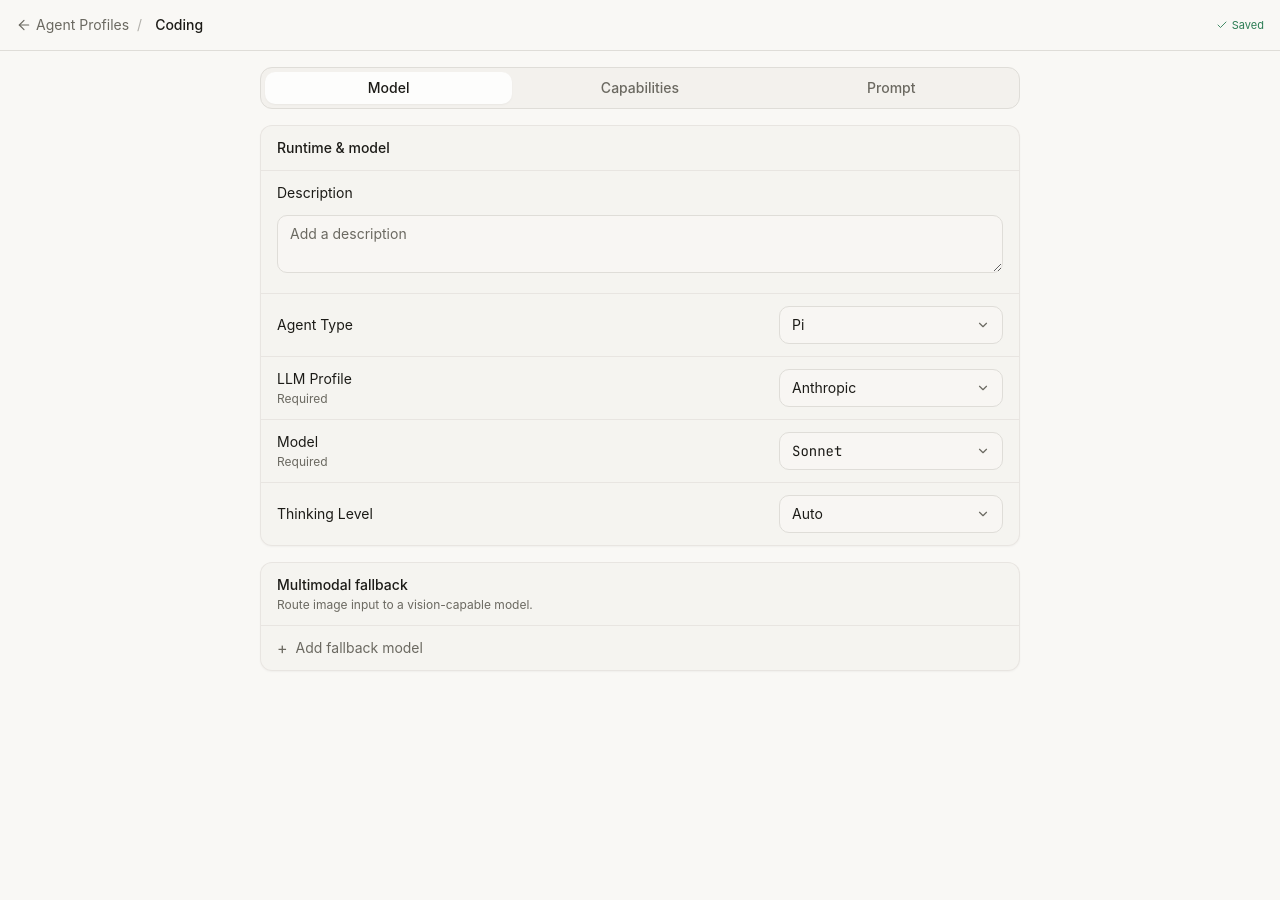
ProfileEditor › multimodal fallback: opens via Add, sets fields, removes to clear
The width and height of the screenshot is (1280, 900).
Expected: the field with placeholder "e.g., Default Coding Agent" is shown, [150,12,208,38]
Expected: the field labelled "Fallback LLM Profile" is not shown
Open it.
Step 1. Click the button "+ Add fallback model" → (359, 647), box [261,626,1019,670]
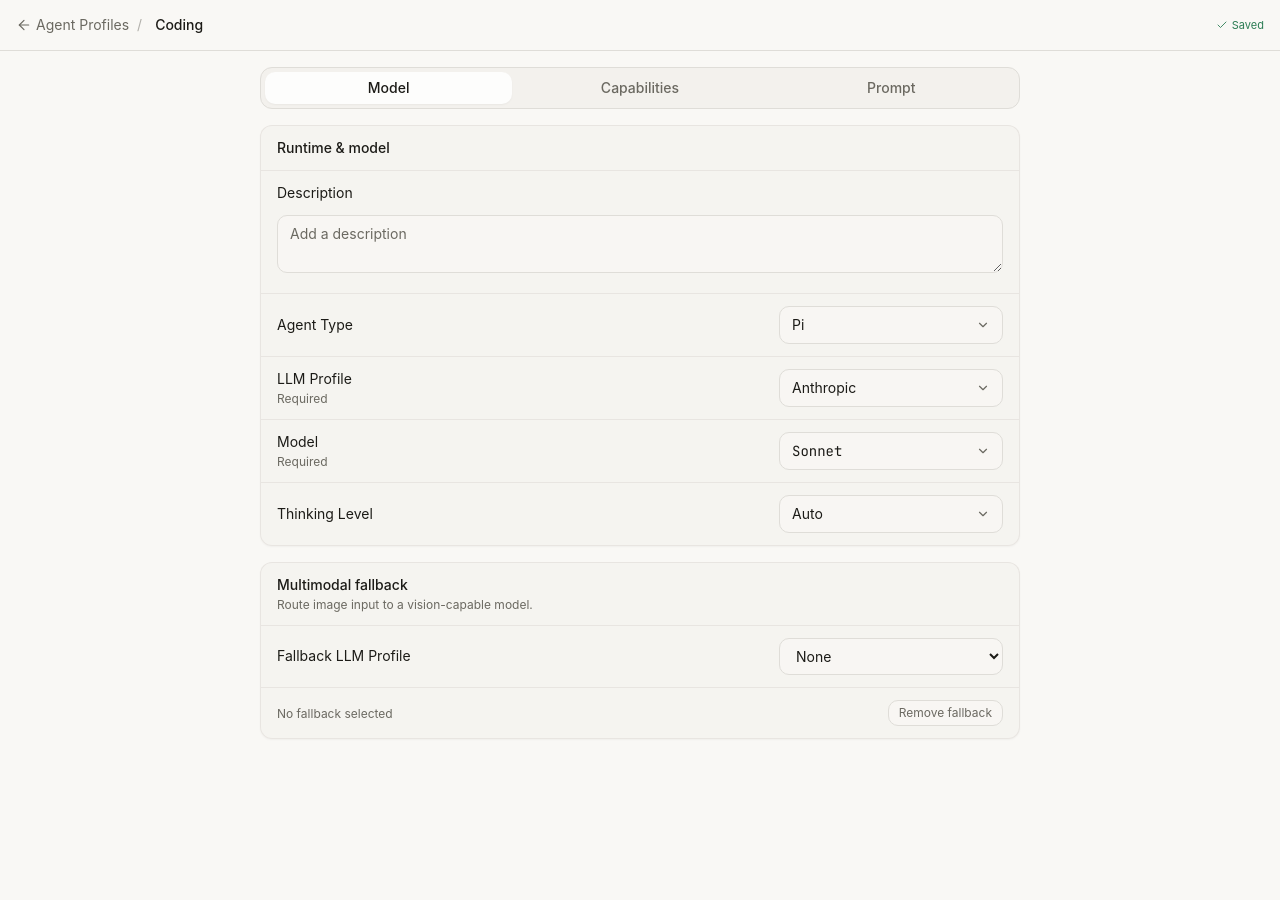
Expected: the dropdown named "Fallback LLM Profile" is shown
Step 2. Select "Vision" in the dropdown named "Fallback LLM Profile" → (891, 656), box [779,638,1003,675]
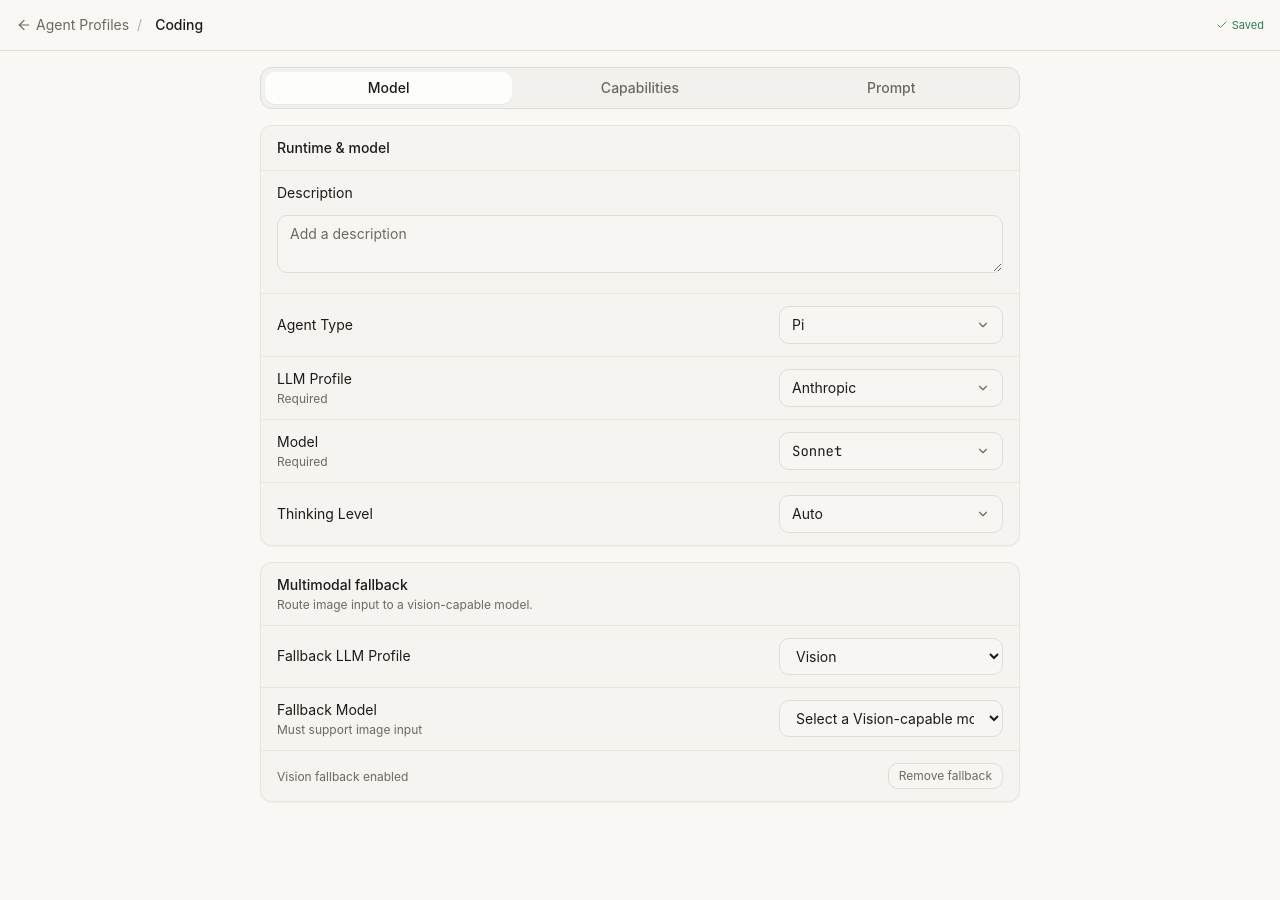
Step 3. Select "Vision Model (vision-model)" in the dropdown named "Fallback Model" → (891, 719), box [779,700,1003,737]
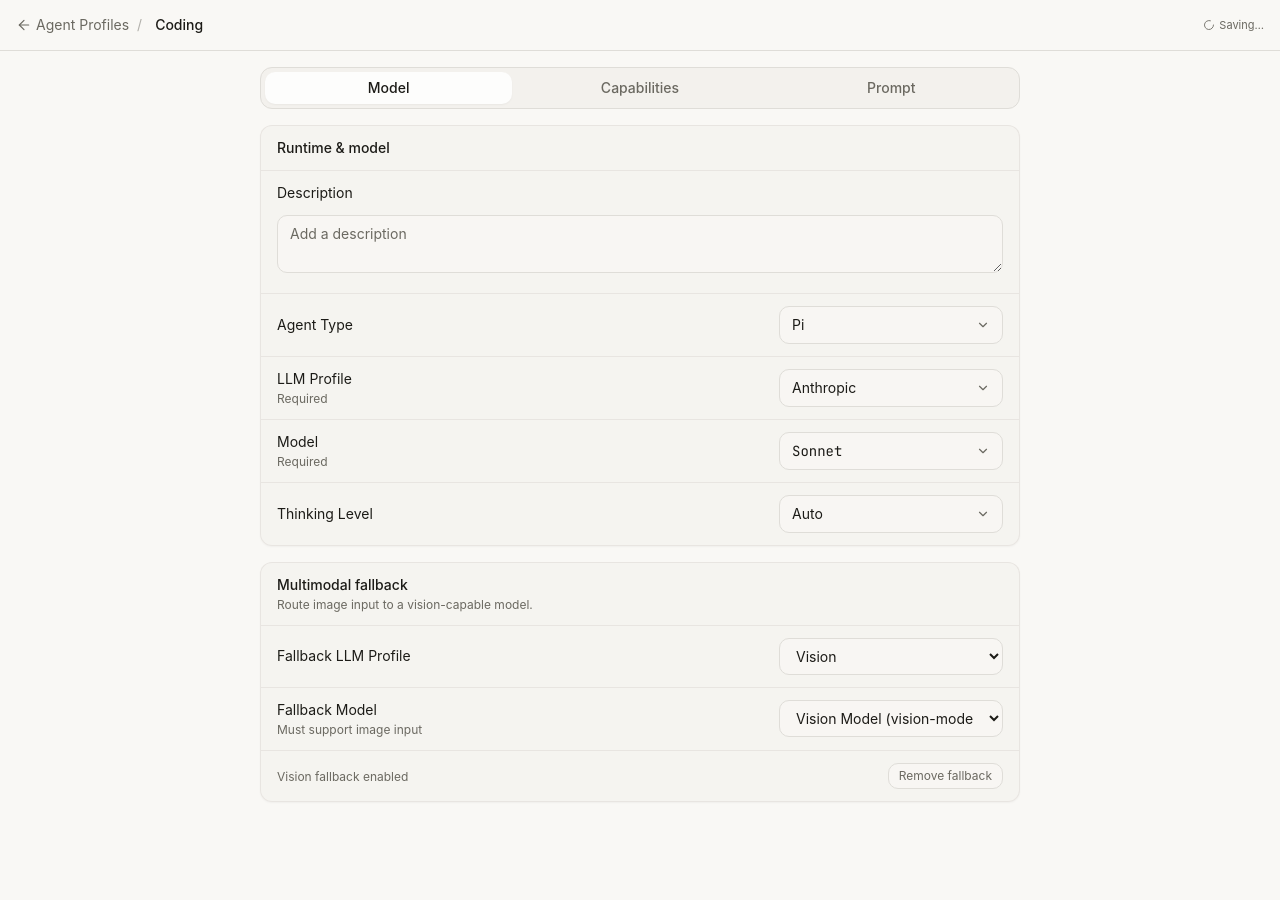
Remove collapses and clears the selects.
Step 4. Click the button "Remove fallback" → (945, 776), box [888,763,1003,789]
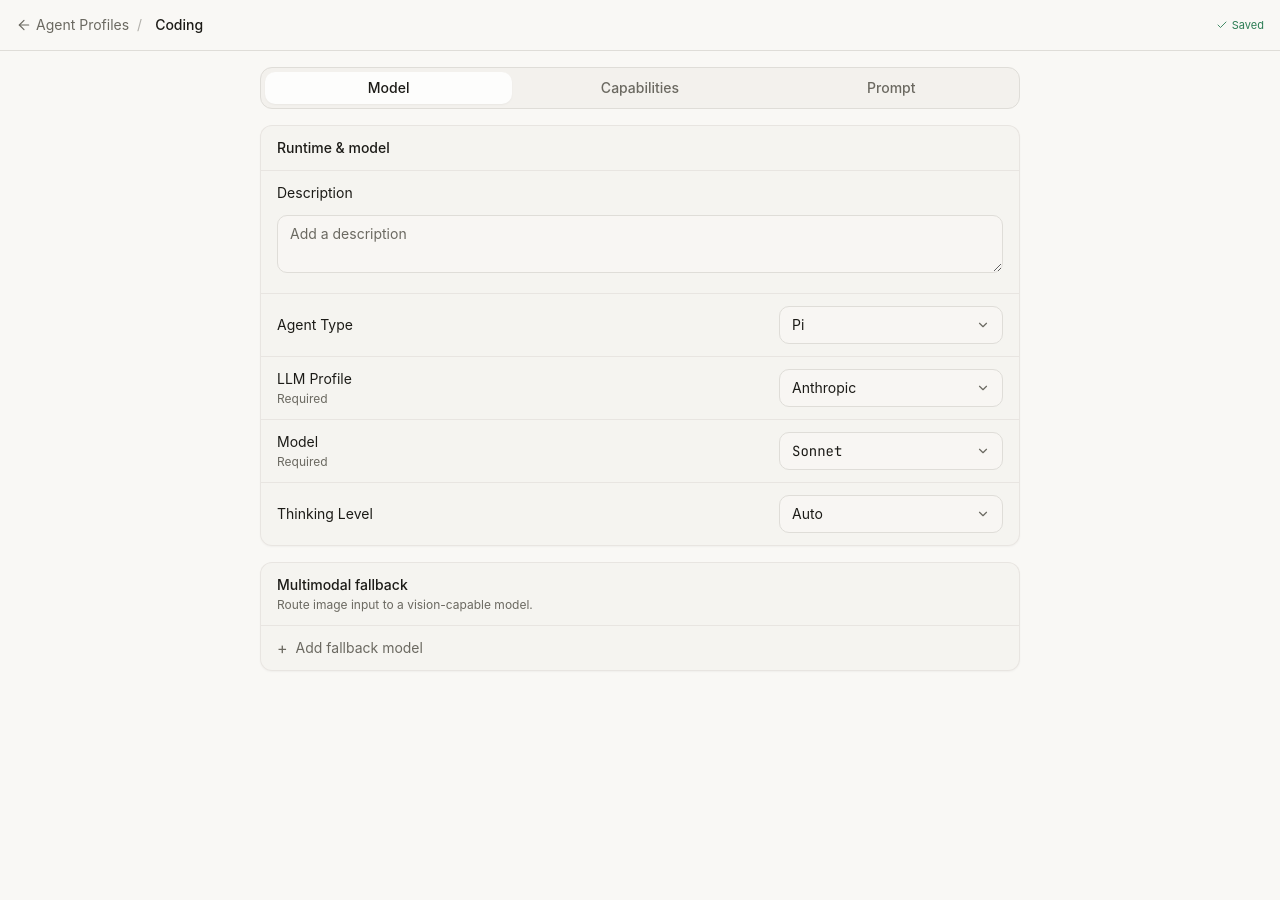
Expected: the text labelled "Fallback LLM Profile" is gone
